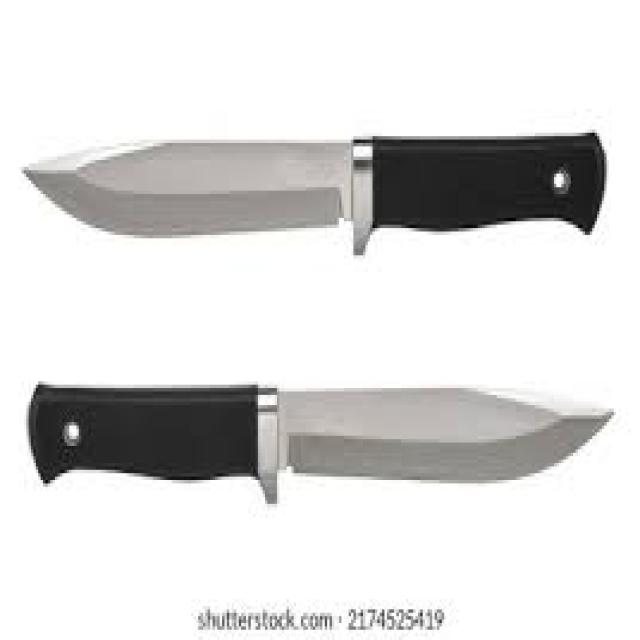Knife: (26, 378, 614, 504), (19, 129, 607, 252)
